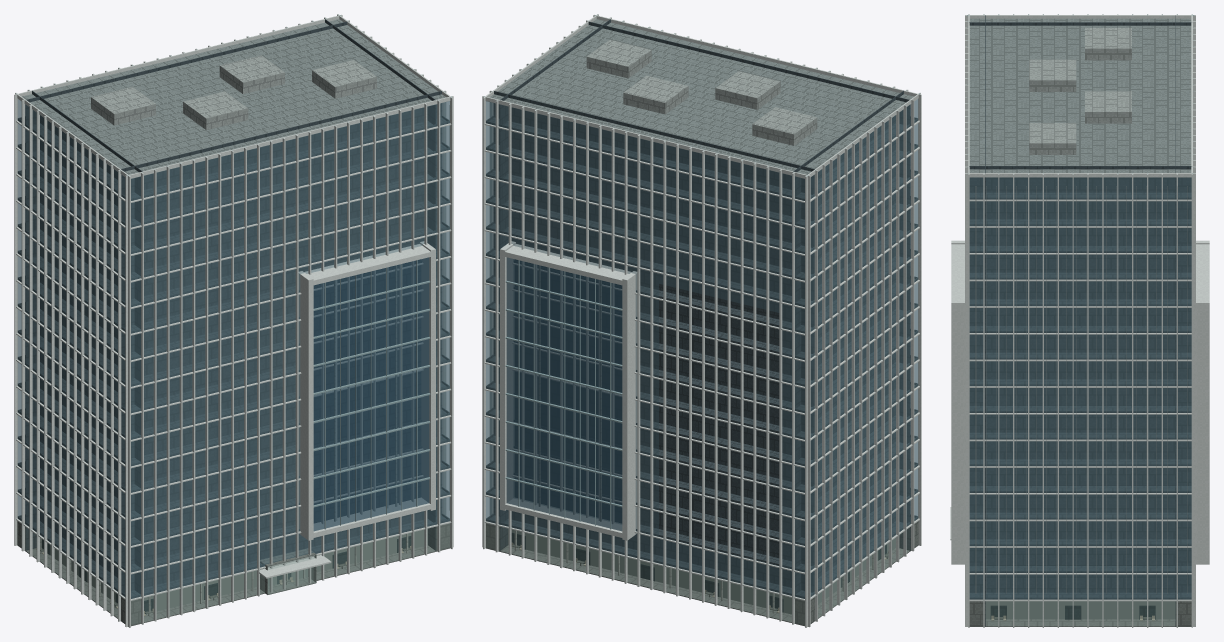
3 views of the same model, side by side, from view 1: azimuth 30°, elevation 25°; view 2: azimuth 150°, elevation 25°; view 3: azimuth 270°, elevation 25° (orthographic).
Parts seen in each view (by area): view 1: Glass_plane__Glazing_office (×4), 03_Columns_and_Frames__Silver facade fins, Glazing_and_grid__Opaque structural core (×4), Scenic_facade_recess__Opaque structural core (×2), Reflective_feature_glass, Roof, Recess_back (×2), Glazing_and_grid__Silver facade fins (×2), Tower_core, 07_Roof__Rooftop plant provisional, Glass_plane__Glazing_clear (×2), 03_Columns_and_Frames__Mullion aluminium (+5 smaller); view 2: 03_Columns_and_Frames__Silver facade fins, Glass_plane__Glazing_office (×4), Glazing_and_grid__Opaque structural core (×4), Scenic_facade_recess__Opaque structural core (×2), Reflective_feature_glass, Roof, Recess_back (×2), Glazing_and_grid__Silver facade fins (×2), Tower_core, Glass_plane__Glazing_clear (×2), 07_Roof__Rooftop plant provisional, 03_Columns_and_Frames__Mullion aluminium (+4 smaller); view 3: Glass_plane__Glazing_office, Tower_core, Roof, 03_Columns_and_Frames__Silver facade fins, Glazing_and_grid__Opaque structural core (×4), Scenic_facade_recess__Opaque structural core (×3), B02__Night_observed lavender facade strips, Glazing_and_grid__Silver facade fins, 07_Roof__Rooftop plant provisional, Glass_plane__Glazing_clear, Recess_back, 07_Roof__Silver facade fins (+2 smaller).
Part boxes in pixels (<box>): Glass_plane__Glazing_office (×4): <box>18,99,449,598</box>; 03_Columns_and_Frames__Silver facade fins: <box>14,14,453,627</box>; Glazing_and_grid__Opaque structural core (×4): <box>17,19,449,598</box>; Scenic_facade_recess__Opaque structural core (×2): <box>18,118,449,598</box>; Reflective_feature_glass: <box>313,257,429,531</box>; Roof: <box>22,19,445,177</box>; Recess_back (×2): <box>144,259,427,611</box>; Glazing_and_grid__Silver facade fins (×2): <box>16,120,451,600</box>; Tower_core: <box>40,115,117,577</box>; 07_Roof__Rooftop plant provisional: <box>91,55,376,129</box>; Glass_plane__Glazing_clear (×2): <box>25,523,449,624</box>; 03_Columns_and_Frames__Mullion aluminium: <box>313,260,430,529</box>; 03_Columns_and_Frames__Silver facade fins: <box>482,14,921,627</box>; Glass_plane__Glazing_office (×4): <box>486,99,917,598</box>; Glazing_and_grid__Opaque structural core (×4): <box>486,19,918,598</box>; Scenic_facade_recess__Opaque structural core (×2): <box>486,117,917,598</box>; Reflective_feature_glass: <box>506,257,622,531</box>; Roof: <box>490,19,913,177</box>; Recess_back (×2): <box>508,260,791,614</box>; Glazing_and_grid__Silver facade fins (×2): <box>484,120,919,600</box>; Tower_core: <box>818,115,895,577</box>; Glass_plane__Glazing_clear (×2): <box>486,523,909,624</box>; 07_Roof__Rooftop plant provisional: <box>586,39,817,145</box>; 03_Columns_and_Frames__Mullion aluminium: <box>505,260,622,529</box>; Glass_plane__Glazing_office: <box>970,177,1191,598</box>; Tower_core: <box>985,177,1175,592</box>; Roof: <box>969,18,1191,177</box>; 03_Columns_and_Frames__Silver facade fins: <box>951,14,1209,627</box>; Glazing_and_grid__Opaque structural core (×4): <box>969,15,1191,626</box>; Scenic_facade_recess__Opaque structural core (×3): <box>969,192,1191,597</box>; B02__Night_observed lavender facade strips: <box>975,186,1187,593</box>; Glazing_and_grid__Silver facade fins: <box>969,199,1191,601</box>; 07_Roof__Rooftop plant provisional: <box>1029,28,1131,154</box>; Glass_plane__Glazing_clear: <box>986,601,1175,625</box>; Recess_back: <box>985,601,1175,619</box>; 07_Roof__Silver facade fins: <box>968,15,1192,177</box>.
Bounding box in the file's own units: 60.55 × 81.16 × 41.3.
50 materials, 36 textured.
